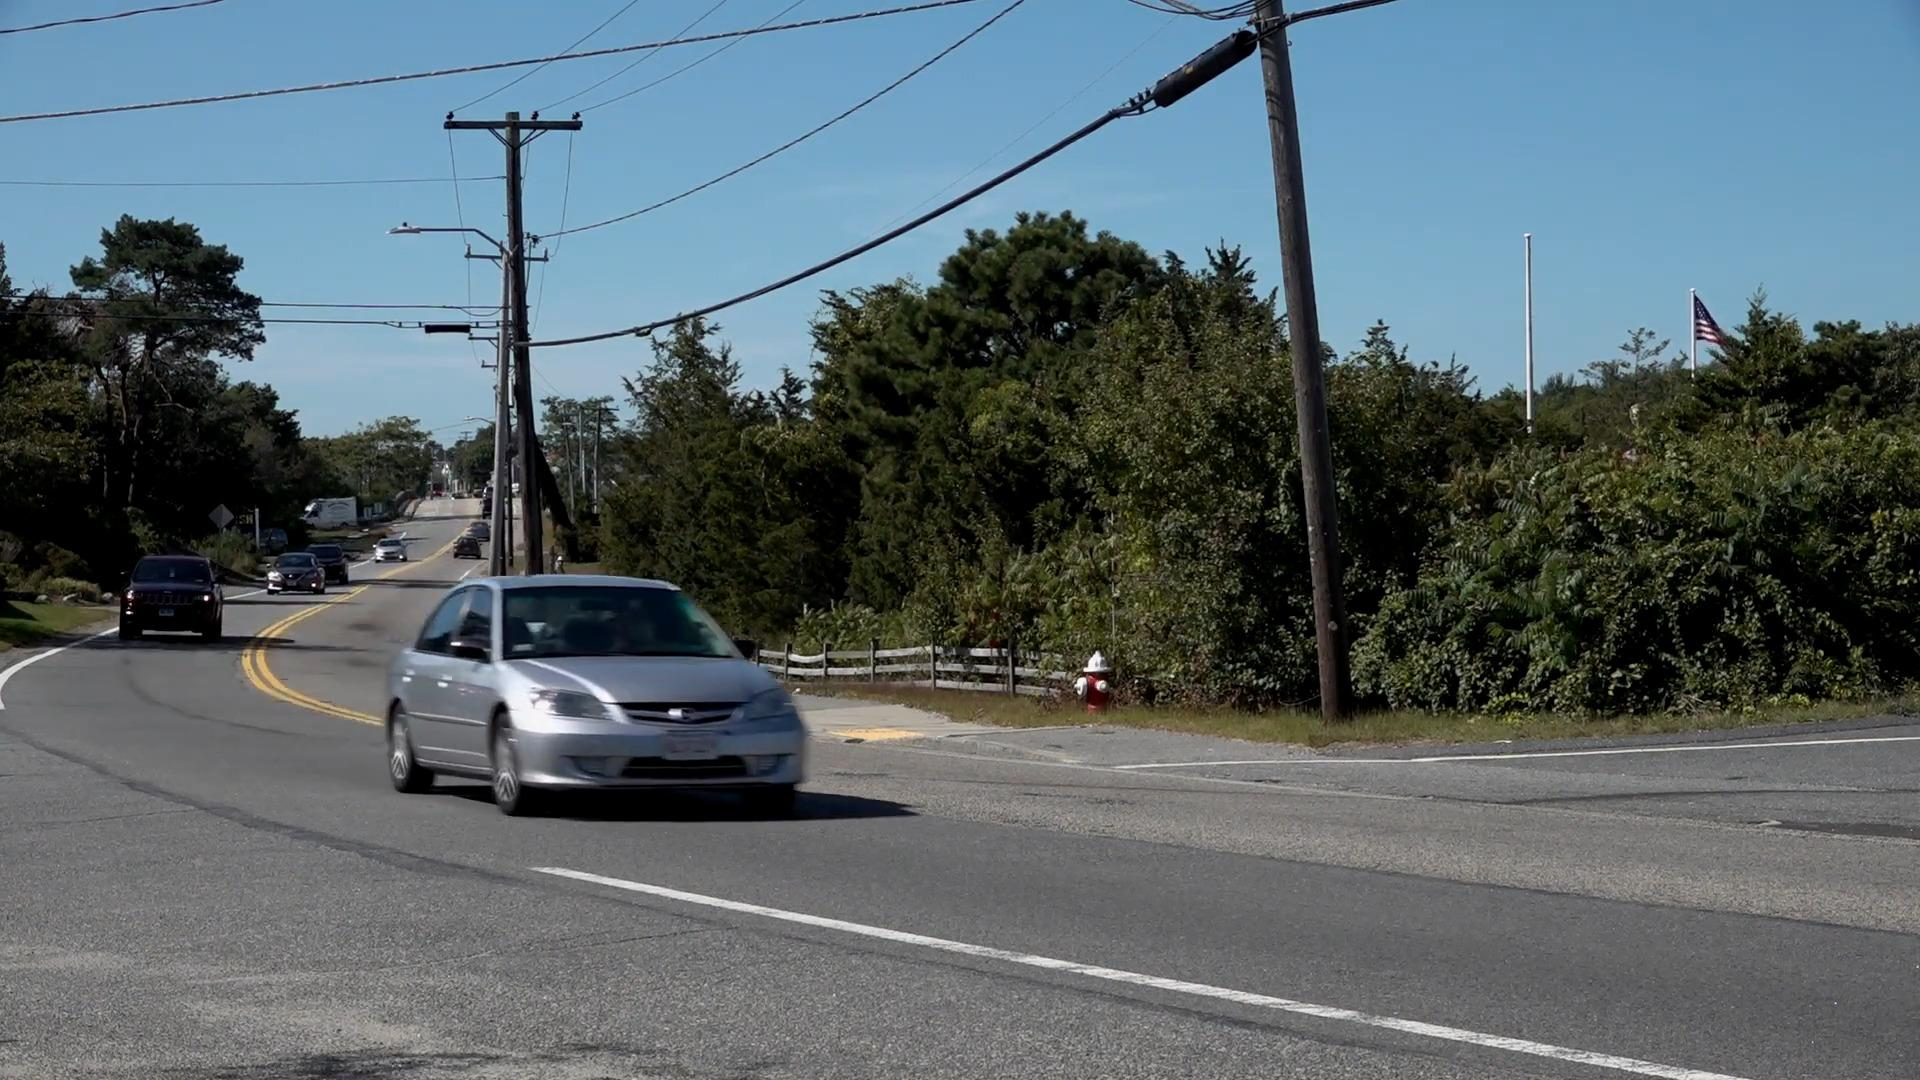sedans: (381, 580, 815, 814)
suv: (121, 550, 225, 640)
